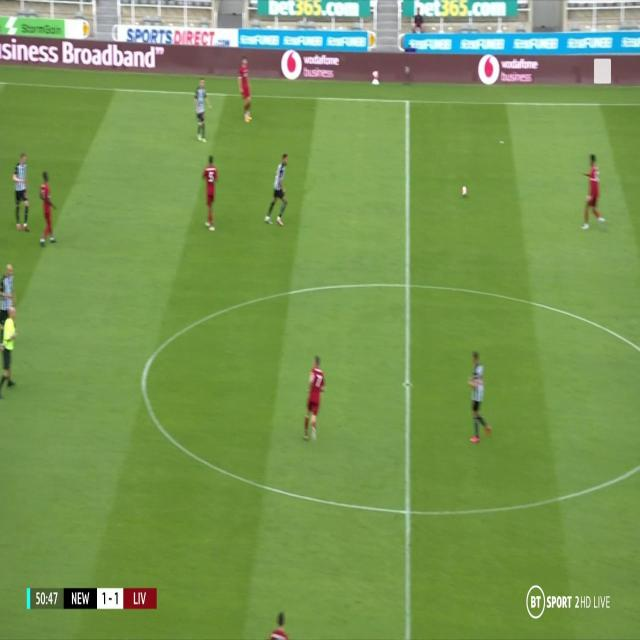ball: (460, 183, 468, 196)
player: (302, 352, 328, 447), (466, 348, 490, 448), (579, 152, 607, 236), (264, 149, 290, 230), (10, 148, 32, 234), (37, 166, 58, 252), (200, 152, 220, 233), (1, 309, 18, 393), (236, 56, 255, 124), (192, 78, 211, 145), (0, 262, 18, 320), (270, 607, 289, 639)
